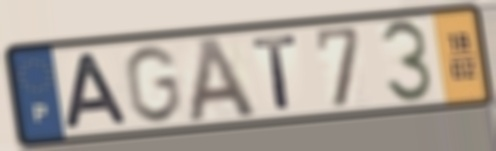3: (377, 17, 436, 107)
7: (312, 23, 364, 111)
A: (185, 34, 261, 126), (60, 50, 132, 132)
G: (121, 43, 185, 126)
T: (249, 32, 302, 112)
